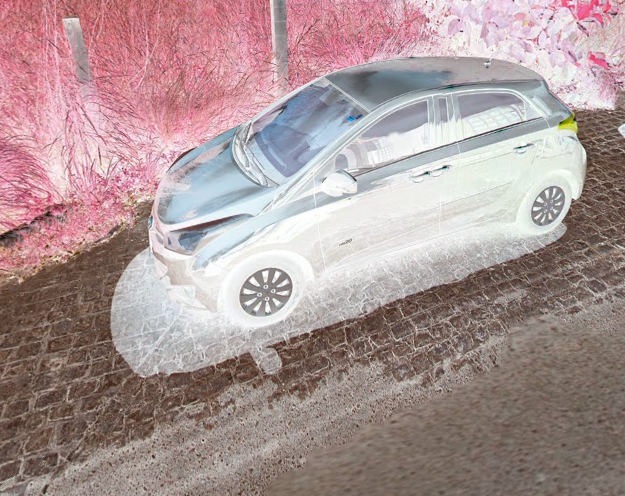car: (146, 46, 587, 329)
